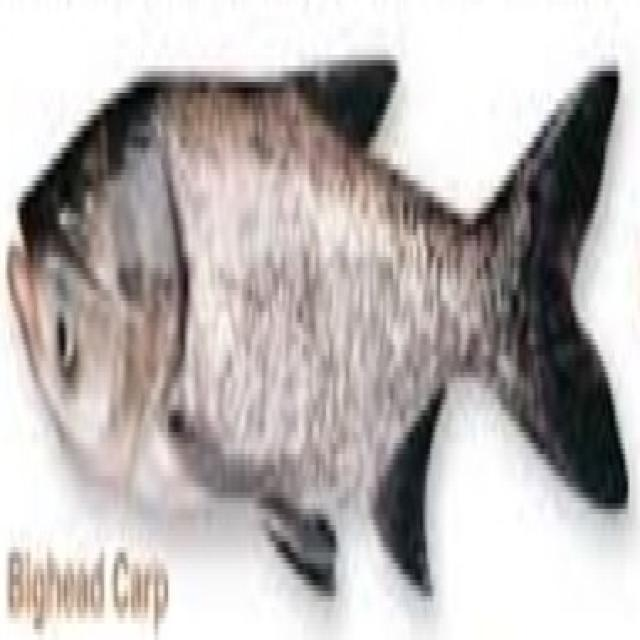Big-Head-Carp: (2, 7, 636, 619)
